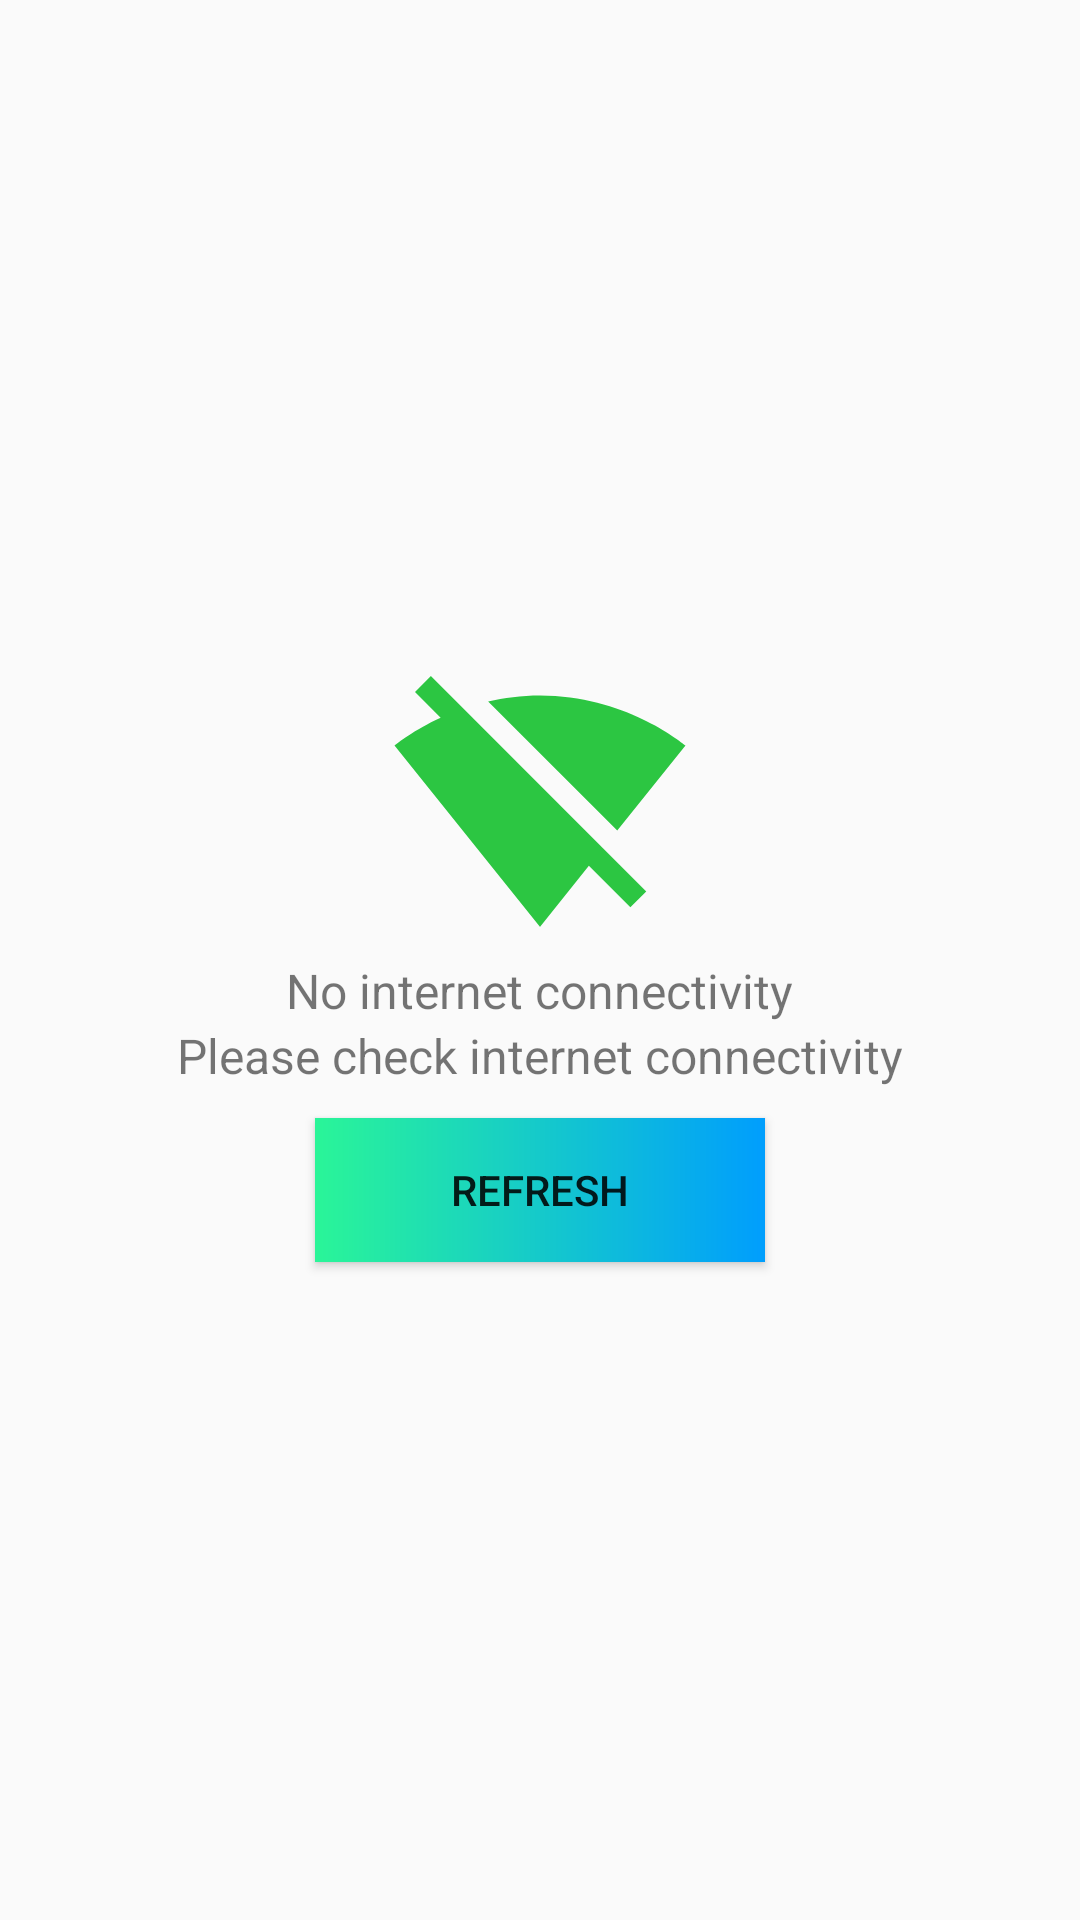

Locate icon controls on the screen. Image size 1080×1920, boxes as BBox(x1, y1, x2, y2).
signal wifi off: BBox(394, 676, 686, 927)
